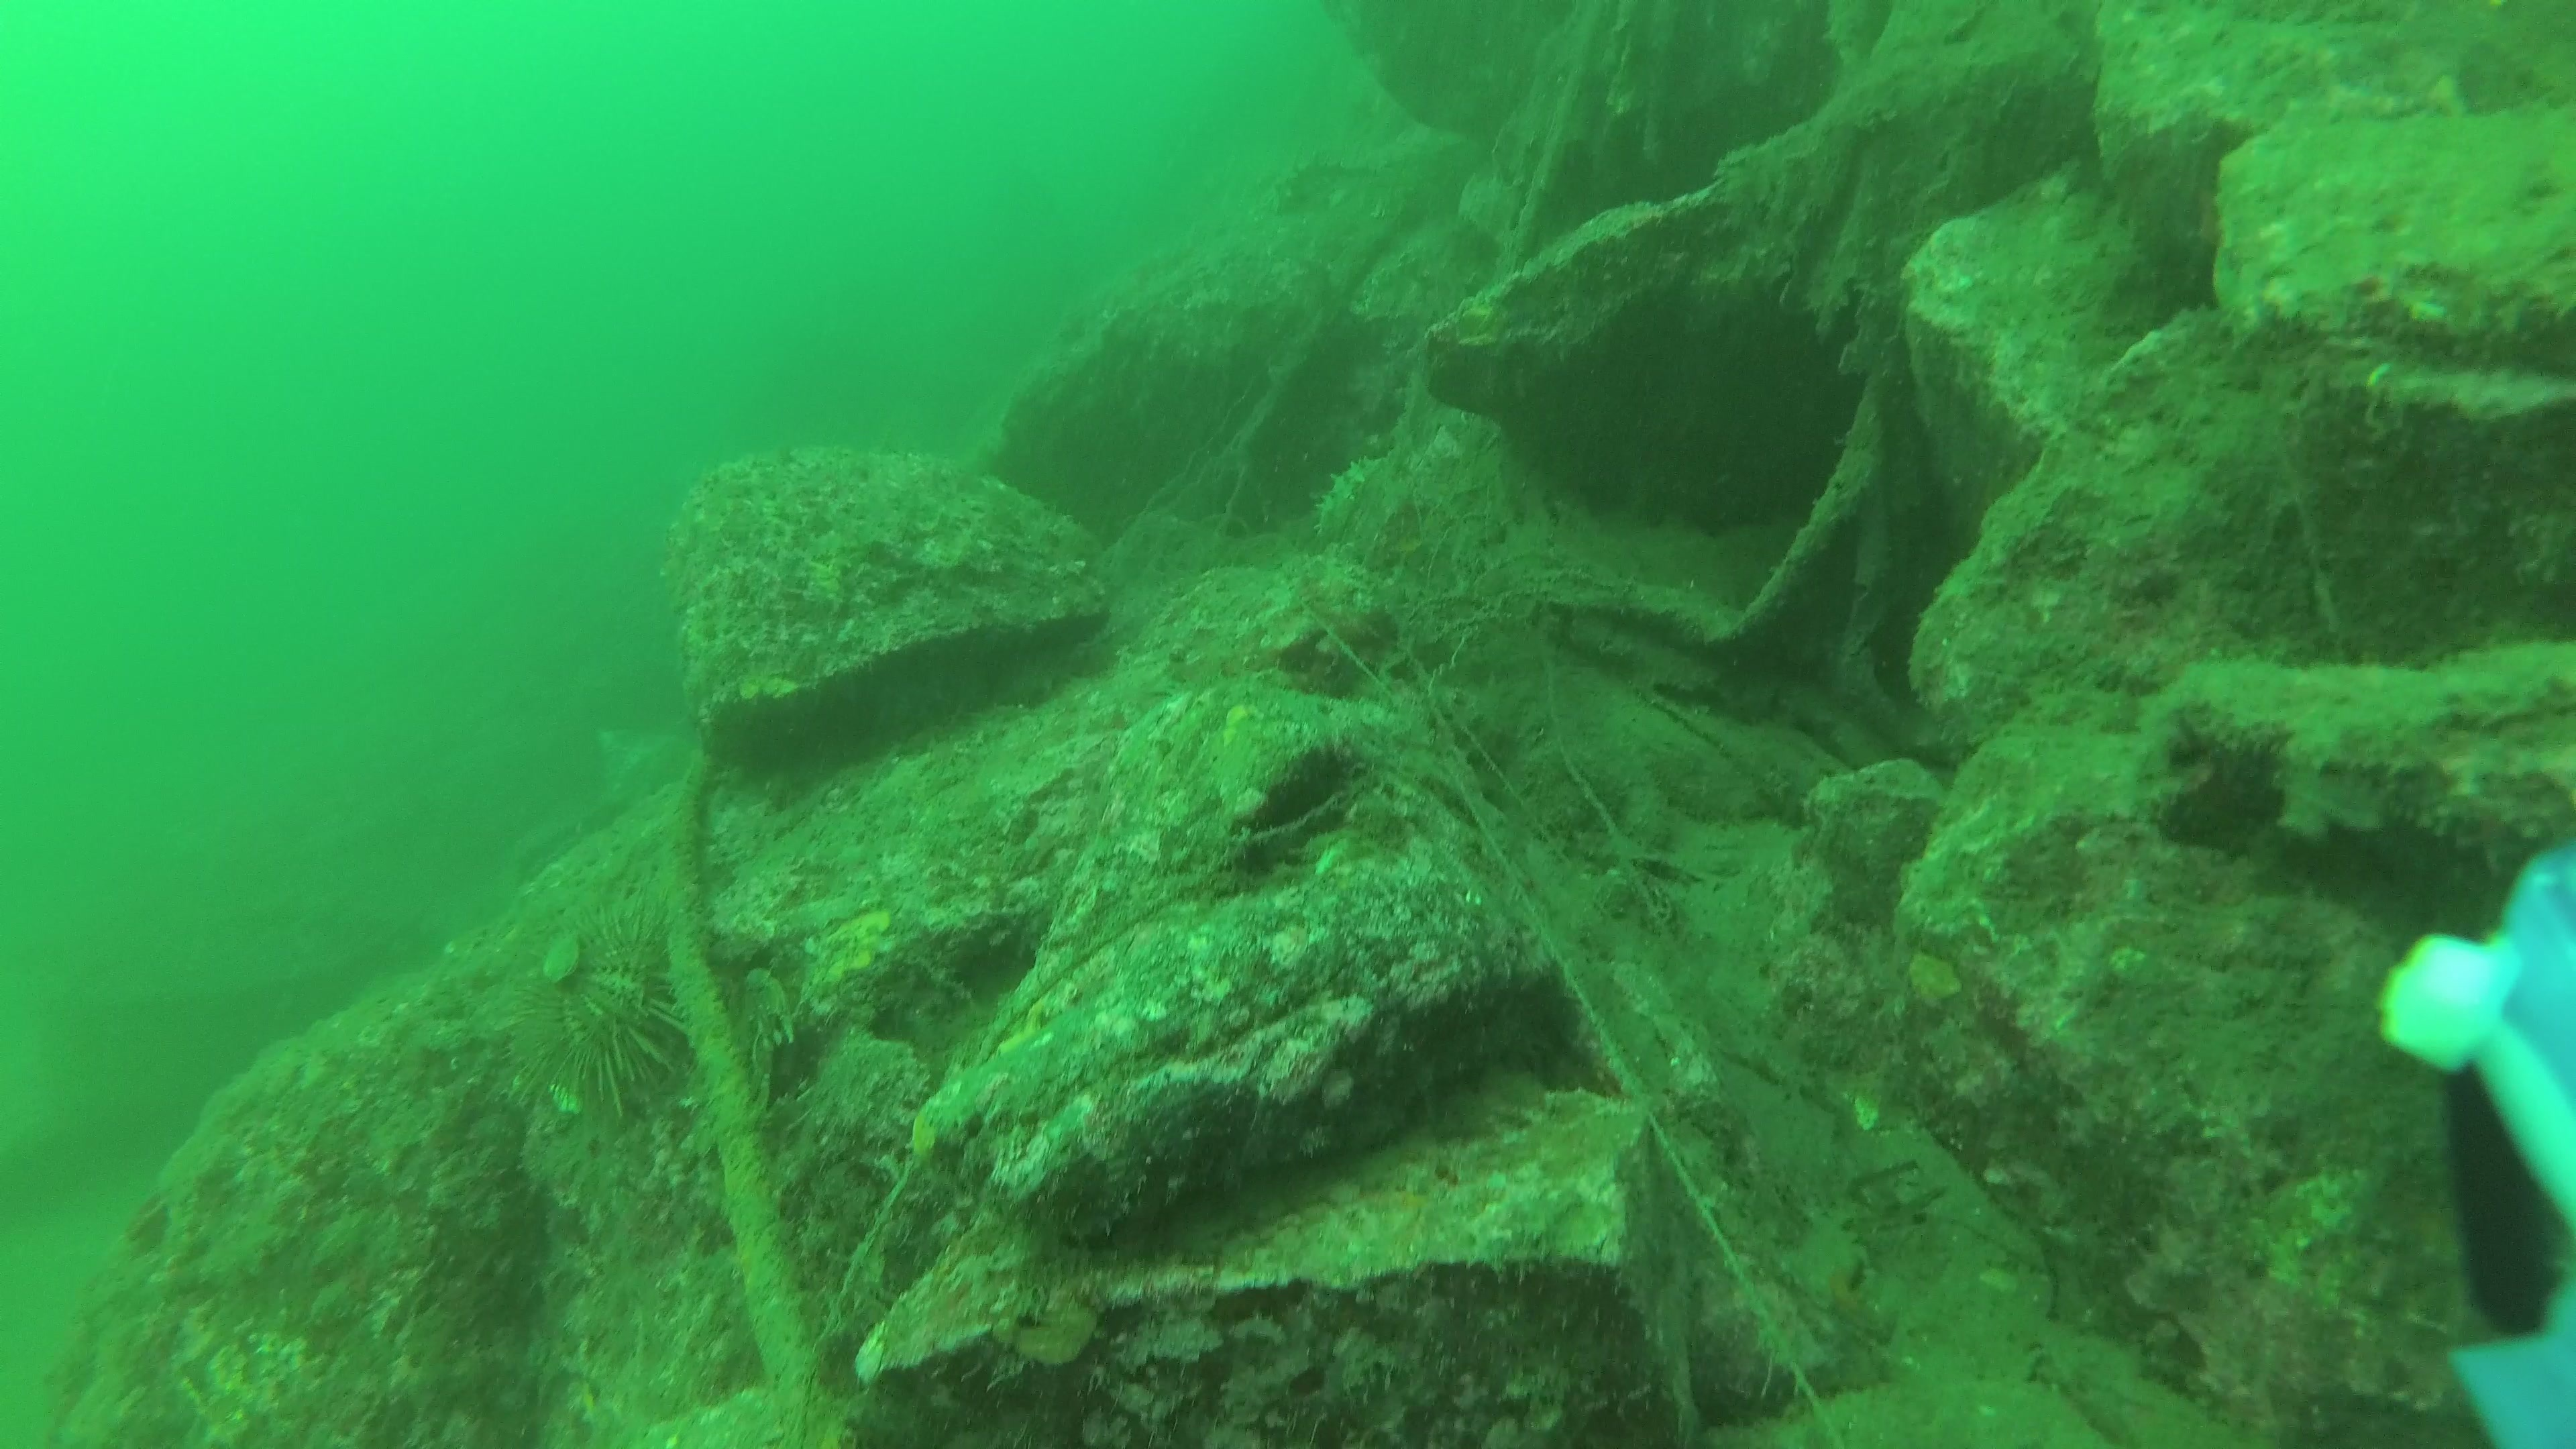echinus: (511, 904, 694, 1120)
holothurian: (1304, 449, 1391, 547)
